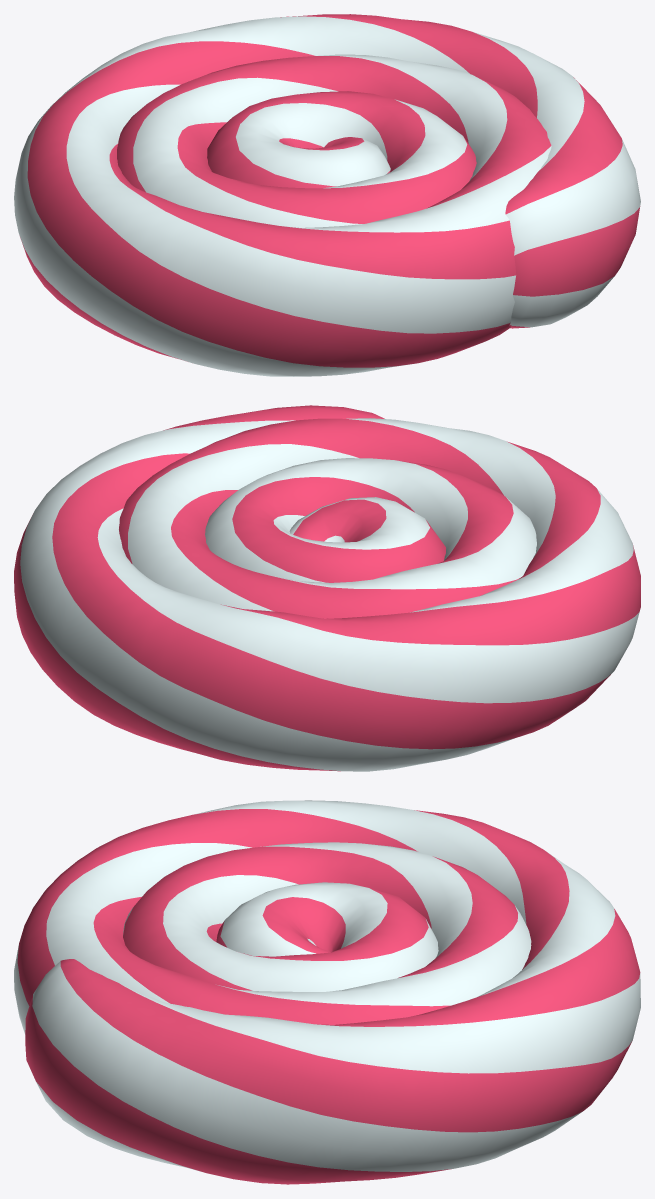
The model's file is Swirly_03.fbx.
The picture shows the model from 3 angles, top to bottom: view 1: azimuth 30°, elevation 25°; view 2: azimuth 150°, elevation 25°; view 3: azimuth 270°, elevation 25°; orthographic projection. The views are drawn at different scales.
Visible parts, largest first — view 1: Swirly_03_LOD0; view 2: Swirly_03_LOD0; view 3: Swirly_03_LOD0.
Boxes of the visible parts, x1,y1,x2,y2 form: Swirly_03_LOD0: (14, 14, 640, 376); Swirly_03_LOD0: (14, 405, 640, 771); Swirly_03_LOD0: (14, 800, 640, 1184).
Size of what is drawn, in the model's own units: 530 by 139 by 509.
